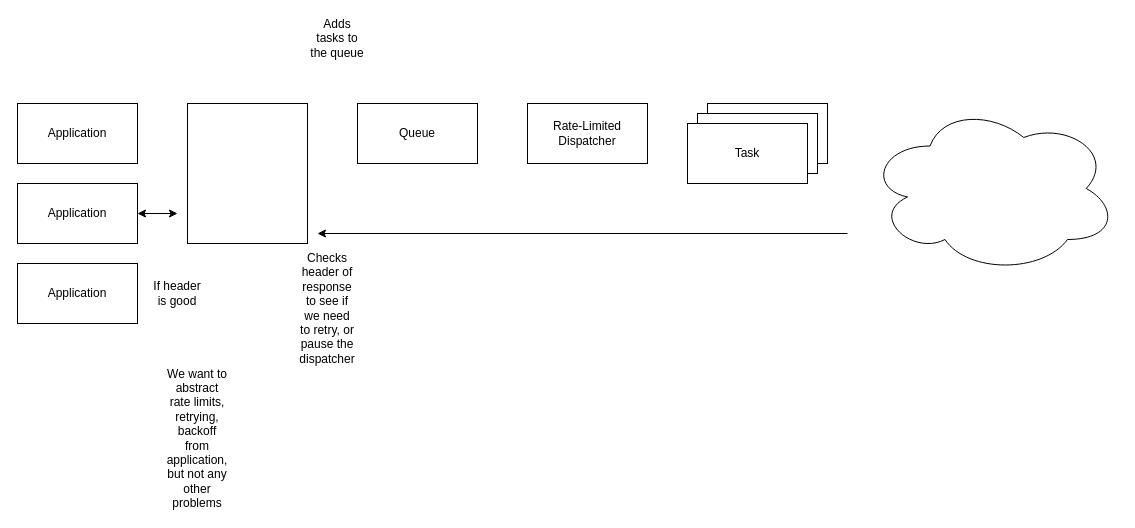
Image size: 1135x528. Some labels were removed from this diagram. Here are the shapes that lost their labels. From the top down, the centre of each, then its label:
At point 247,173: "call_api".
At point 992,188: "API".
